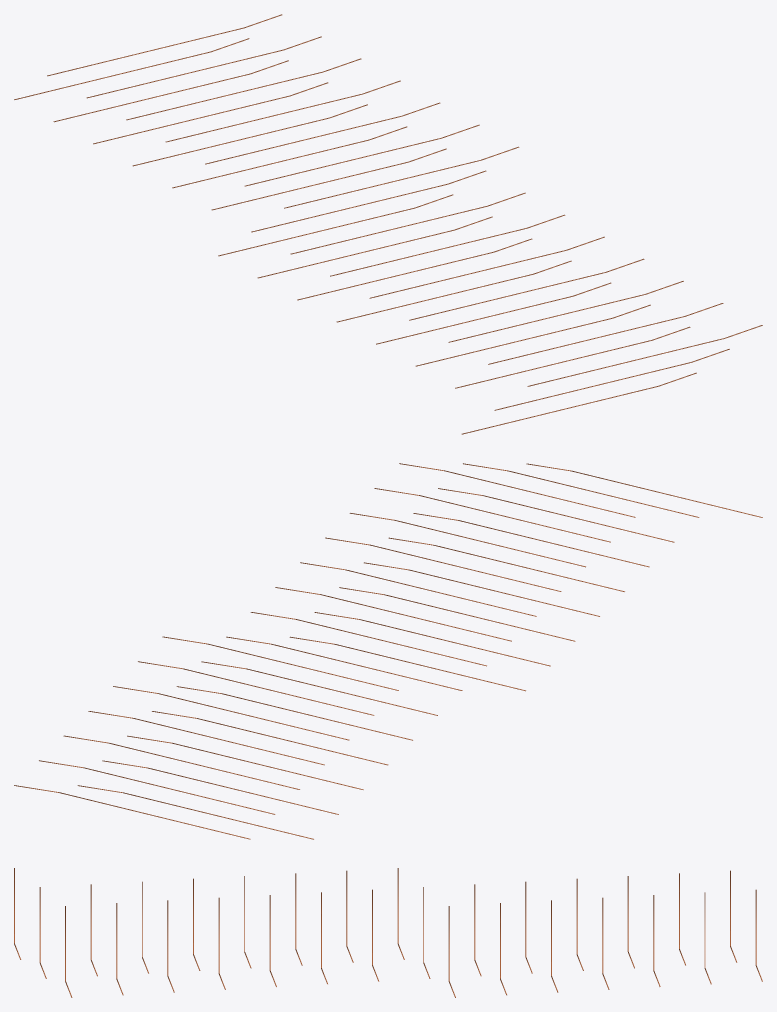
The model's file is 086_L102_L3_Layer_Signal.obj.
3 views of the same model, one above another, from view 1: azimuth 30°, elevation 25°; view 2: azimuth 150°, elevation 25°; view 3: azimuth 270°, elevation 25° (orthographic). The views are drawn at different scales.
Size of the model in its own units: 0.048 by 4e-05 by 0.1171.
Materials: 1 (1 with a texture image).
